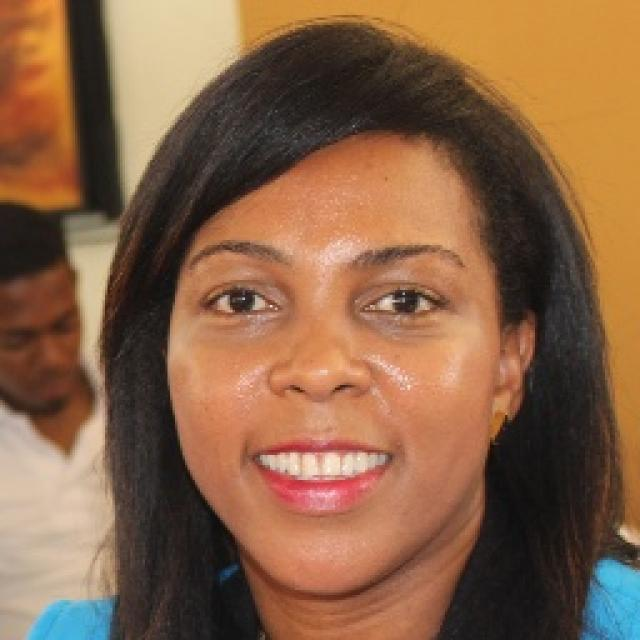earlobe: (490, 383, 520, 431)
eye: (203, 285, 286, 321), (361, 286, 446, 319)
nose: (268, 381, 374, 425)
wholeear: (490, 304, 538, 431)
